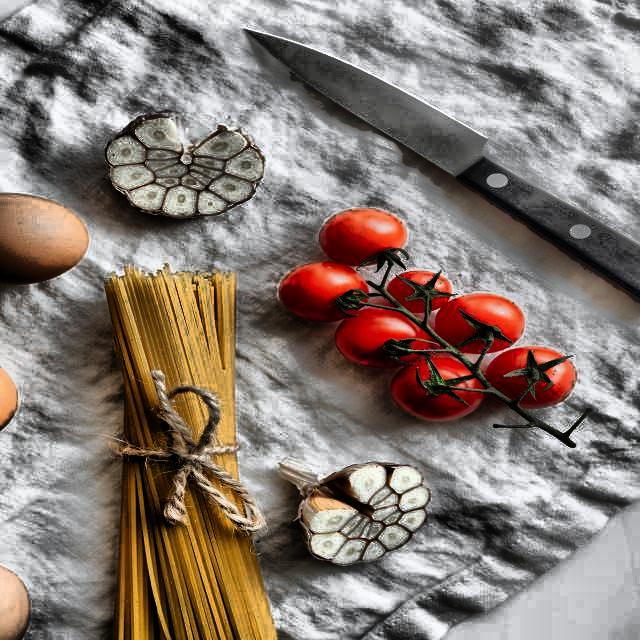knife: (241, 23, 640, 314)
